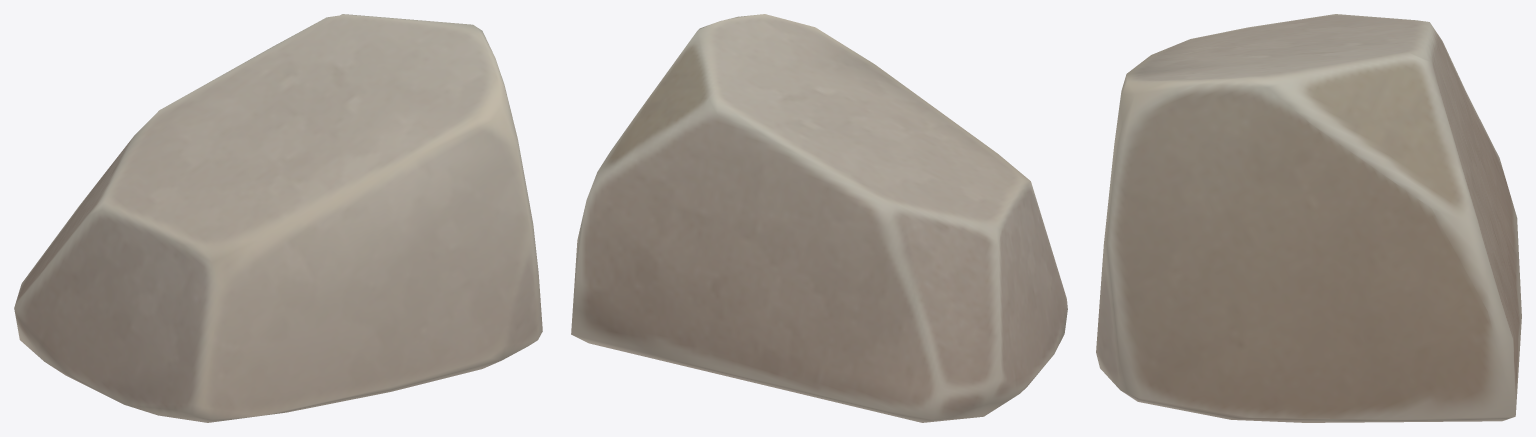
The model's file is rock5.glb.
The picture shows the model from 3 angles, left to right: view 1: azimuth 30°, elevation 25°; view 2: azimuth 150°, elevation 25°; view 3: azimuth 270°, elevation 25°; orthographic projection. The views are drawn at different scales.
Parts seen in each view (by area): view 1: Rock5; view 2: Rock5; view 3: Rock5.
Part boxes in pixels (left/top/right/bottom): Rock5: left=14, top=14, right=542, bottom=422; Rock5: left=571, top=14, right=1067, bottom=422; Rock5: left=1096, top=14, right=1521, bottom=422.
Size of the model in its own units: 0.6134 by 0.3775 by 0.4418.
1 material, 1 textured.
